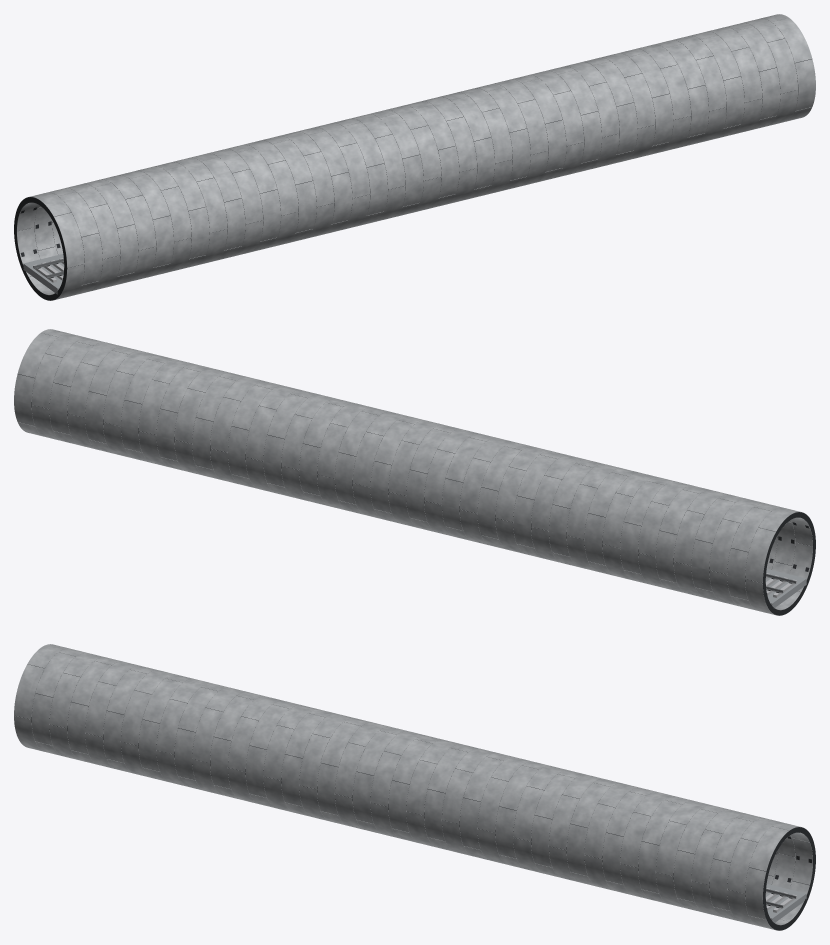
Rendered from tunnel.dae.
The picture shows the model from 3 angles, top to bottom: view 1: azimuth 30°, elevation 25°; view 2: azimuth 150°, elevation 25°; view 3: azimuth 330°, elevation 25°; orthographic projection.
Parts seen in each view (by area): view 1: Joint_Background, Ring_008_Block_02, Ring_020_Block_02, Ring_038_Block_02, Ring_032_Block_02, Ring_026_Block_02, Ring_014_Block_02, Ring_002_Block_02, Ring_012_Block_02, Ring_006_Block_02, Ring_036_Block_02, Ring_024_Block_02 (+76 smaller); view 2: Joint_Background, Ring_008_Block_00, Ring_020_Block_00, Ring_038_Block_00, Ring_032_Block_00, Ring_026_Block_00, Ring_014_Block_00, Ring_002_Block_00, Ring_012_Block_00, Ring_006_Block_00, Ring_036_Block_00, Ring_024_Block_00 (+76 smaller); view 3: Joint_Background, Ring_028_Block_02, Ring_026_Block_02, Ring_014_Block_02, Ring_040_Block_02, Ring_022_Block_02, Ring_034_Block_02, Ring_032_Block_02, Ring_024_Block_02, Ring_020_Block_02, Ring_038_Block_02, Ring_008_Block_02 (+76 smaller).
Part boxes in pixels (box(x1,y1,x2,y2)): Joint_Background: box(14, 38, 811, 300); Ring_008_Block_02: box(196, 178, 227, 233); Ring_020_Block_02: box(410, 125, 441, 180); Ring_038_Block_02: box(732, 47, 762, 102); Ring_032_Block_02: box(625, 73, 655, 128); Ring_026_Block_02: box(517, 99, 548, 154); Ring_014_Block_02: box(303, 152, 334, 206); Ring_002_Block_02: box(89, 204, 120, 259); Ring_012_Block_02: box(268, 160, 298, 215); Ring_006_Block_02: box(161, 186, 191, 241); Ring_036_Block_02: box(696, 56, 726, 111); Ring_024_Block_02: box(482, 108, 512, 163); Joint_Background: box(18, 353, 815, 615); Ring_008_Block_00: box(602, 493, 633, 548); Ring_020_Block_00: box(388, 440, 419, 495); Ring_038_Block_00: box(67, 362, 97, 417); Ring_032_Block_00: box(174, 388, 204, 443); Ring_026_Block_00: box(281, 414, 312, 469); Ring_014_Block_00: box(495, 467, 526, 521); Ring_002_Block_00: box(709, 519, 740, 574); Ring_012_Block_00: box(531, 475, 561, 530); Ring_006_Block_00: box(638, 501, 668, 556); Ring_036_Block_00: box(103, 371, 133, 426); Ring_024_Block_00: box(317, 423, 347, 478); Joint_Background: box(16, 665, 815, 930); Ring_028_Block_02: box(513, 786, 543, 841); Ring_026_Block_02: box(477, 777, 508, 832); Ring_014_Block_02: box(263, 725, 294, 780); Ring_040_Block_02: box(727, 838, 757, 893); Ring_022_Block_02: box(406, 760, 436, 815); Ring_034_Block_02: box(620, 812, 651, 867); Ring_032_Block_02: box(584, 803, 615, 858); Ring_024_Block_02: box(442, 768, 472, 823); Ring_020_Block_02: box(370, 751, 401, 806); Ring_038_Block_02: box(691, 829, 722, 884); Ring_008_Block_02: box(156, 699, 187, 754).
Size of the model in its own units: 50.4 by 6.2 by 6.2.
Materials: 9 (1 with a texture image).
